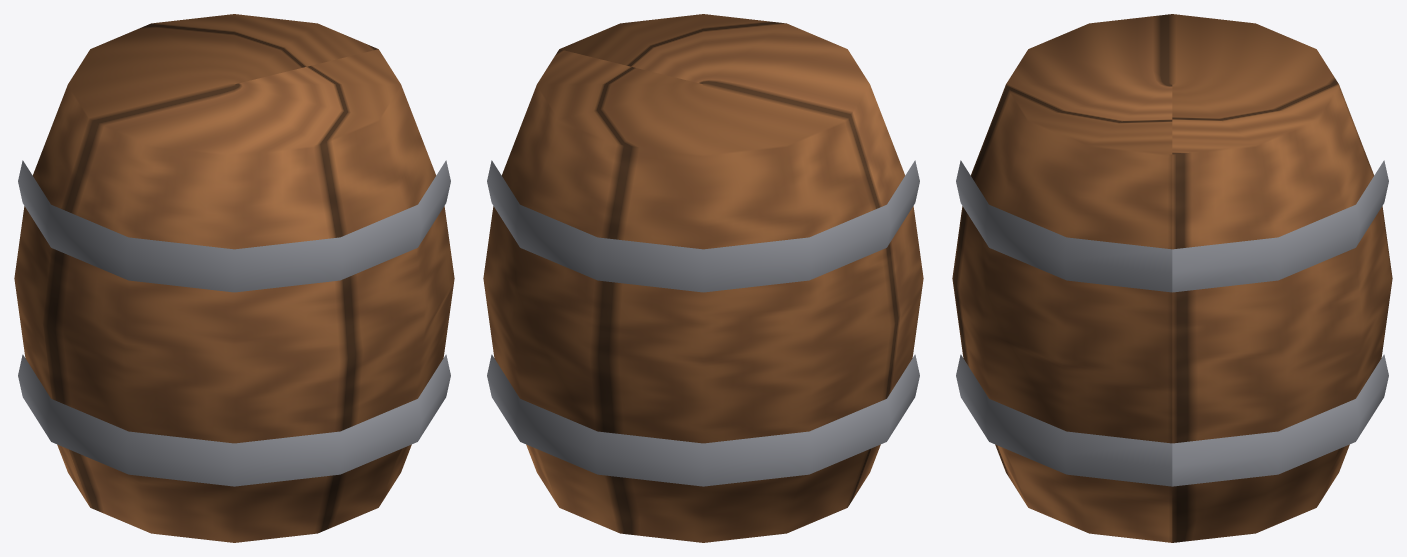
The model's file is crate.glb.
The picture shows the model from 3 angles, left to right: view 1: azimuth 30°, elevation 25°; view 2: azimuth 150°, elevation 25°; view 3: azimuth 270°, elevation 25°; orthographic projection.
Parts seen in each view (by area): view 1: crate; view 2: crate; view 3: crate.
Part boxes in pixels (bbox=[...]): crate: bbox=[14, 14, 454, 542]; crate: bbox=[483, 14, 923, 542]; crate: bbox=[952, 14, 1392, 542].
Size of the model in its own units: 37 by 36 by 37.
Materials: 2 (1 with a texture image).
